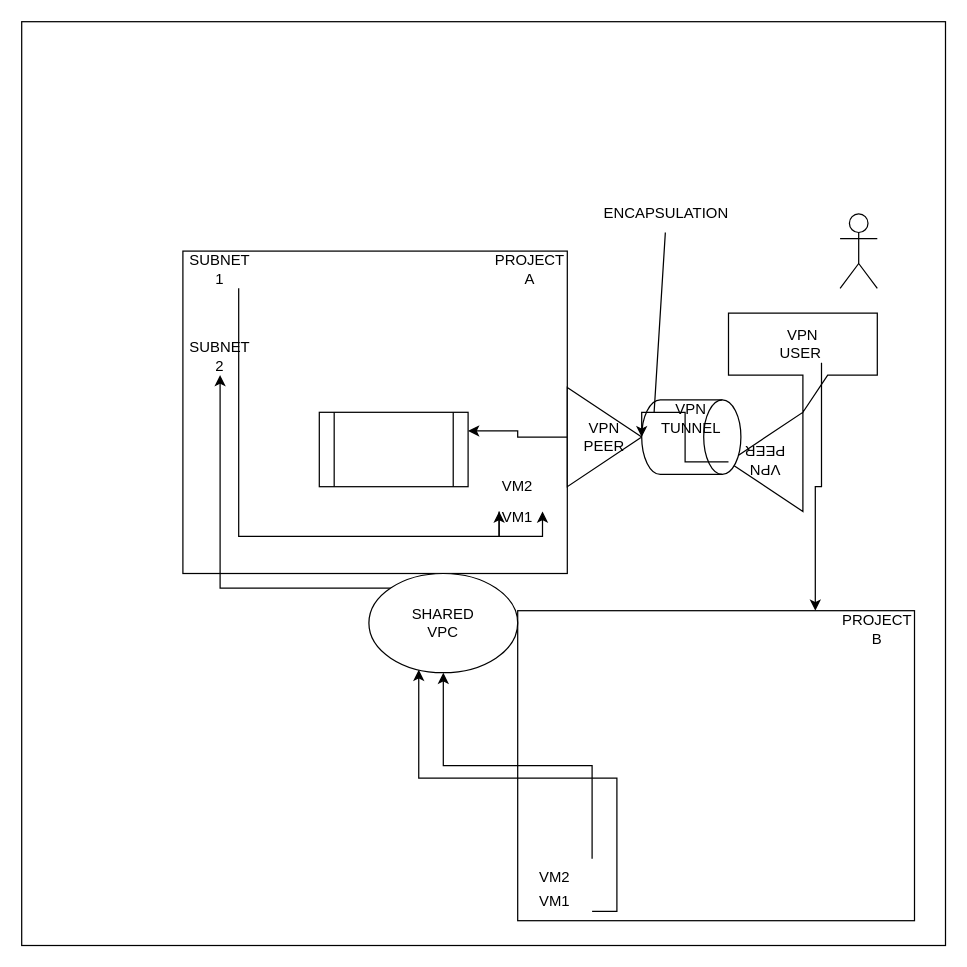
Some shapes in this 967 by 967 pixel diagram are drawn without their labels. Here are the shapes that lost their labels. From the top down, the centre of each, then its label:
(858,250): Actor
(393,449): HOST VPC
